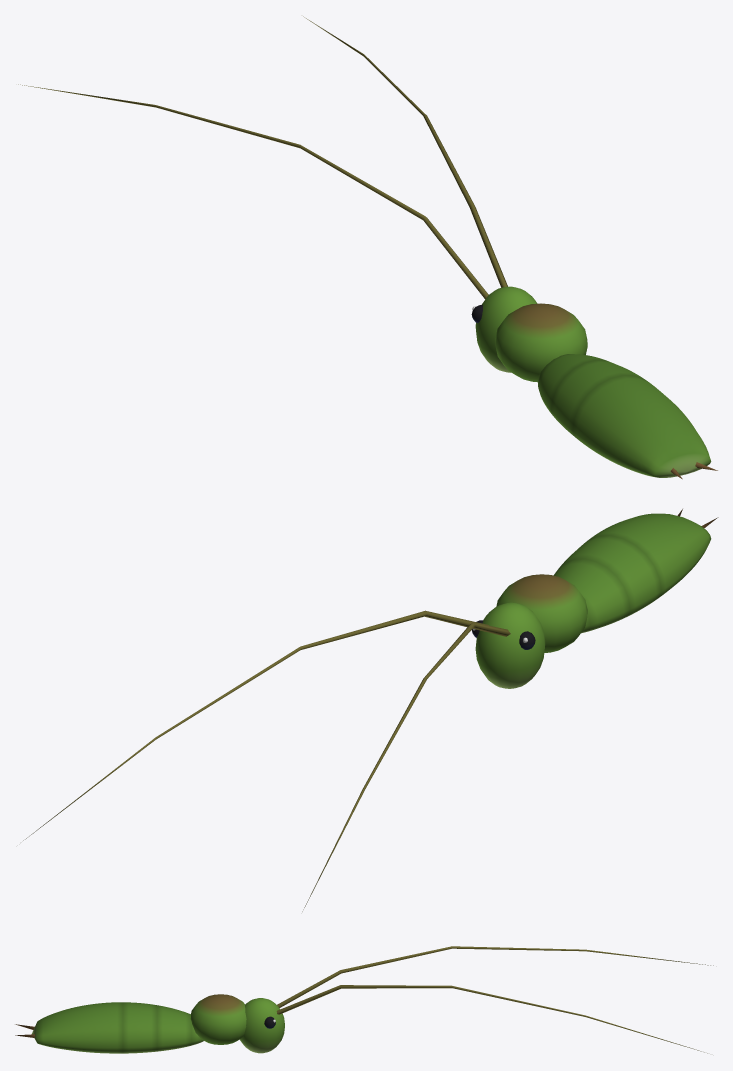
Rendered from Kirigirisu.fbx.
The picture shows the model from 3 angles, top to bottom: view 1: azimuth 30°, elevation 25°; view 2: azimuth 150°, elevation 25°; view 3: azimuth 270°, elevation 25°; orthographic projection. The views are drawn at different scales.
Visible parts, largest first — view 1: Kirigirisu; view 2: Kirigirisu; view 3: Kirigirisu.
Boxes of the visible parts, x1,y1,x2,y2 form: Kirigirisu: (18, 16, 717, 479); Kirigirisu: (23, 509, 718, 911); Kirigirisu: (15, 946, 713, 1053).
Bounding box in the file's own units: 0.96 × 0.426 × 3.17.
